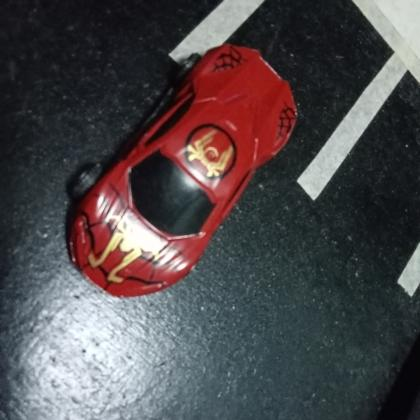Car: (65, 41, 300, 301)
